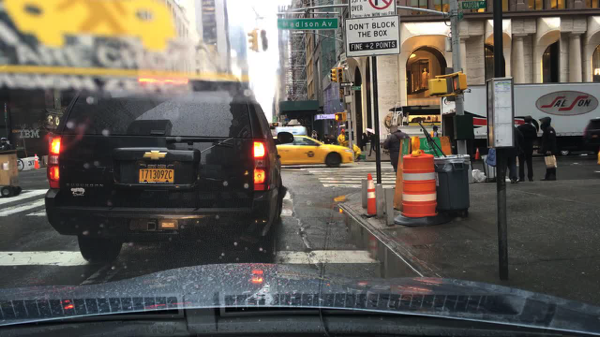bus: (267, 121, 281, 131)
car: (44, 72, 294, 264), (271, 125, 355, 167), (582, 118, 599, 153), (18, 147, 40, 171)
person: (381, 124, 411, 189), (537, 117, 558, 182), (516, 116, 537, 181), (503, 126, 526, 185), (342, 140, 364, 162), (365, 128, 380, 158), (358, 131, 369, 153), (0, 137, 14, 153), (337, 129, 347, 146), (320, 132, 329, 144), (432, 125, 440, 138), (310, 130, 319, 141), (328, 135, 336, 145)
traffic light: (427, 78, 447, 97), (451, 74, 467, 92), (247, 30, 258, 53), (259, 29, 267, 51), (334, 112, 347, 124), (329, 68, 335, 83), (337, 67, 343, 81)
traffic sign: (345, 15, 398, 56), (347, 0, 395, 18), (275, 18, 337, 29), (461, 1, 485, 10), (340, 81, 354, 87), (339, 52, 346, 63), (457, 11, 465, 20), (351, 87, 362, 90)
truck: (440, 81, 599, 157), (0, 152, 21, 196)
